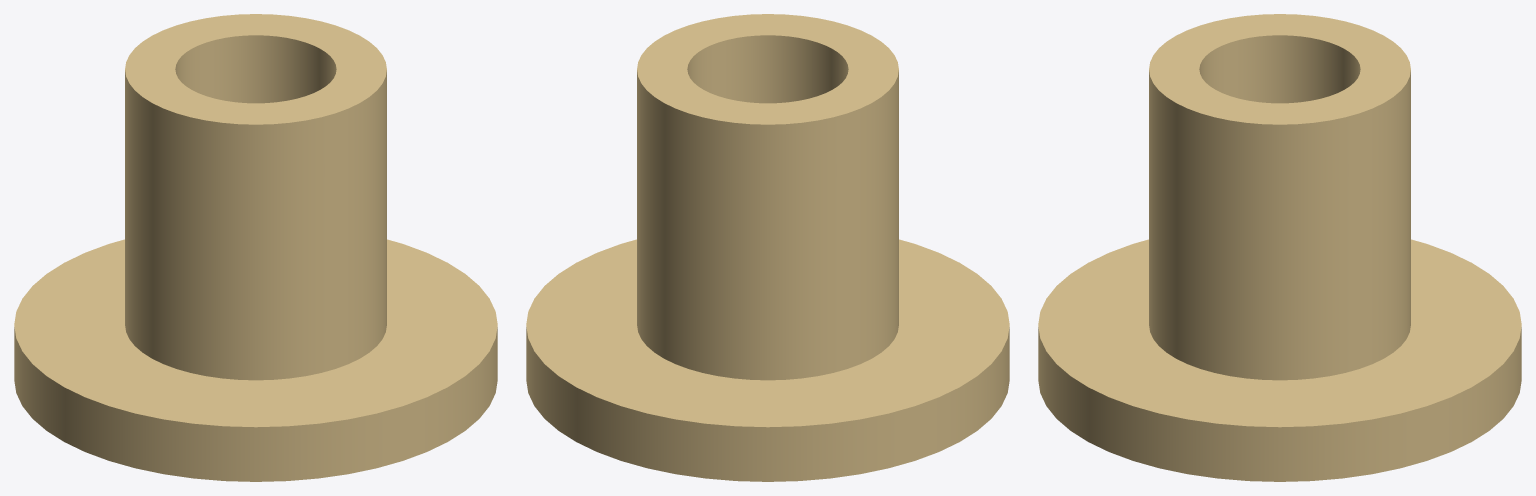
Rendered from flanged-bushing.glb.
The picture shows the model from 3 angles, left to right: view 1: azimuth 30°, elevation 25°; view 2: azimuth 150°, elevation 25°; view 3: azimuth 270°, elevation 25°; orthographic projection.
Parts seen in each view (by area): view 1: Flanged Bushing; view 2: Flanged Bushing; view 3: Flanged Bushing.
Boxes of the visible parts, bbox=[...] form: Flanged Bushing: bbox=[14, 14, 497, 481]; Flanged Bushing: bbox=[526, 14, 1009, 481]; Flanged Bushing: bbox=[1038, 14, 1521, 481].
Size of the model in its own units: 0.048 by 0.034 by 0.048.
